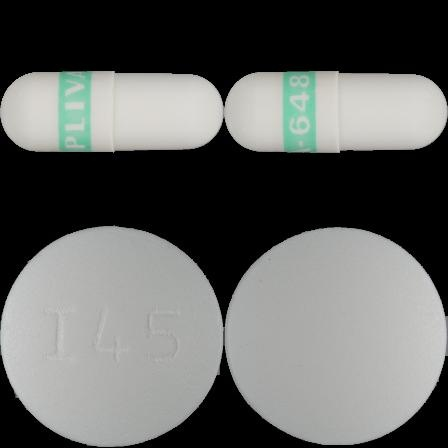0615-7625: (0, 0, 224, 224)
